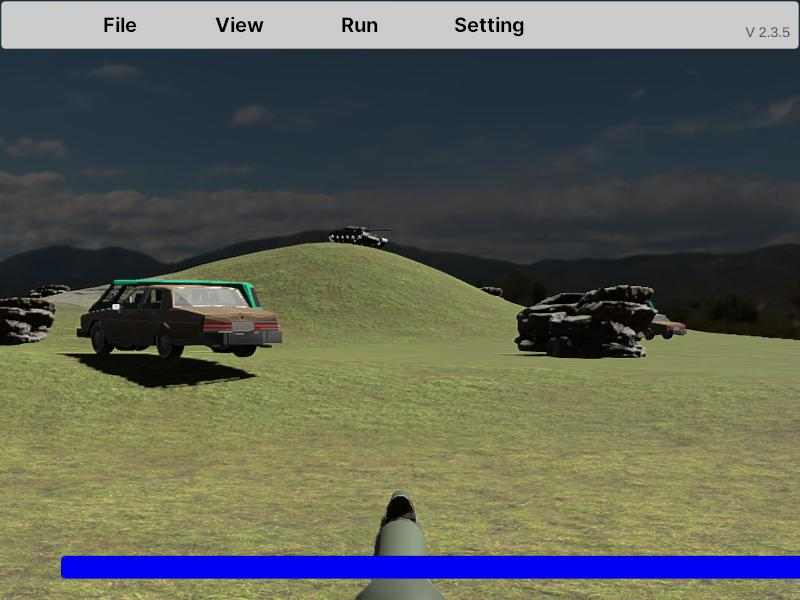car: (78, 286, 284, 361)
